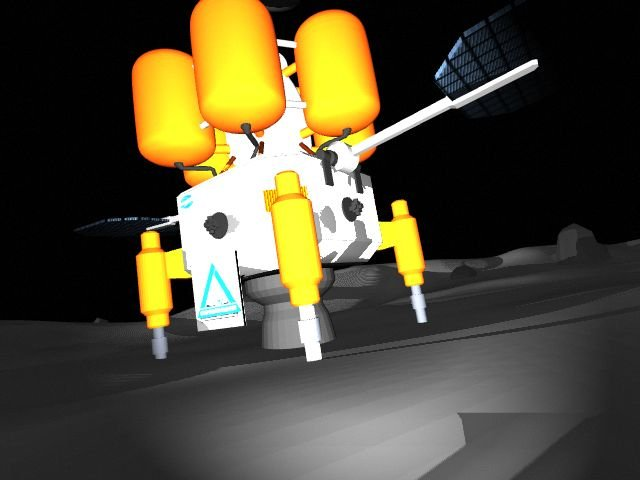basemarker: (198, 263, 243, 322)
